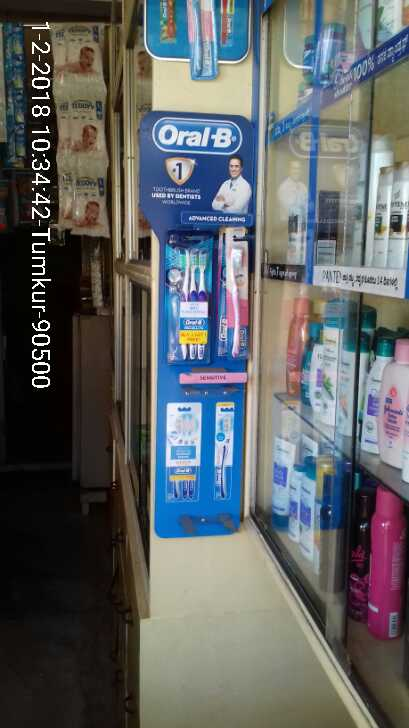oralb: (162, 243, 216, 363), (221, 239, 252, 363)
